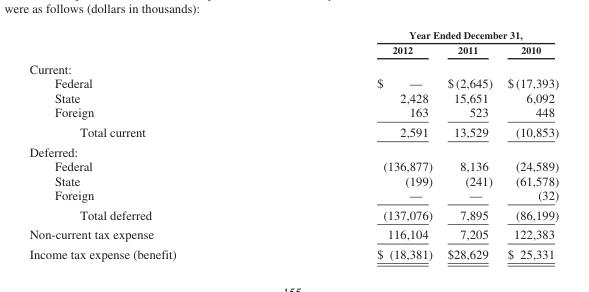table: (28, 28, 558, 260)
table column: (28, 28, 275, 260), (275, 28, 439, 260), (439, 28, 499, 260), (499, 28, 558, 260)
table column header: (28, 28, 558, 58)
table projected row header: (28, 58, 558, 75), (28, 141, 558, 158)
table row: (28, 121, 558, 141), (28, 204, 558, 224), (28, 224, 558, 243), (28, 58, 558, 75), (28, 104, 558, 121), (28, 141, 558, 158), (28, 187, 558, 204), (28, 243, 558, 260), (28, 42, 558, 58), (28, 75, 558, 90), (28, 158, 558, 173), (28, 28, 558, 42), (28, 90, 558, 104), (28, 173, 558, 187)
table spanning cell: (275, 28, 558, 42)
